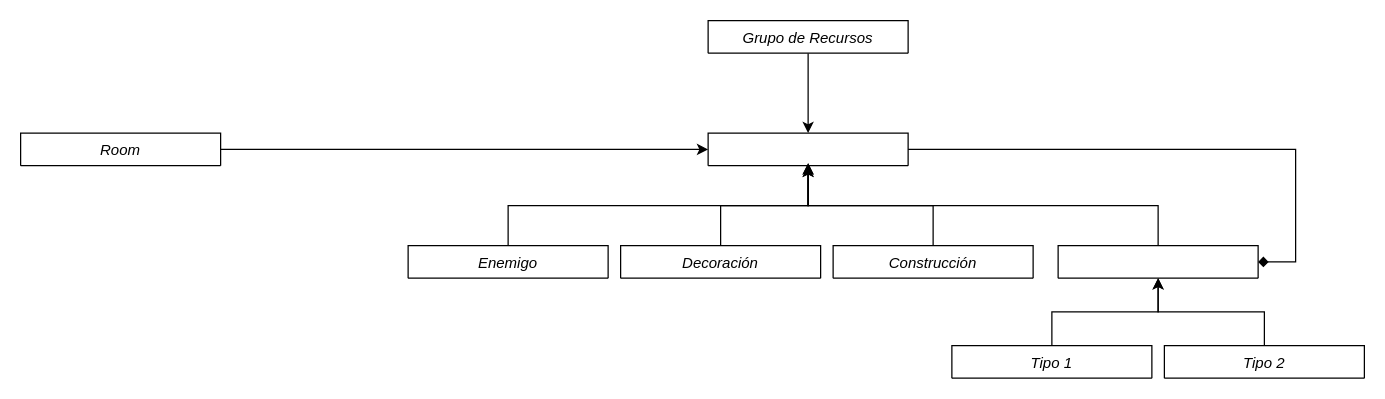
This 1385x399 diagram has some shape labels left out. Each missing label, with the centre of its shape:
"Decorador" goes at point (1157, 261).
"Recurso" goes at point (807, 149).
